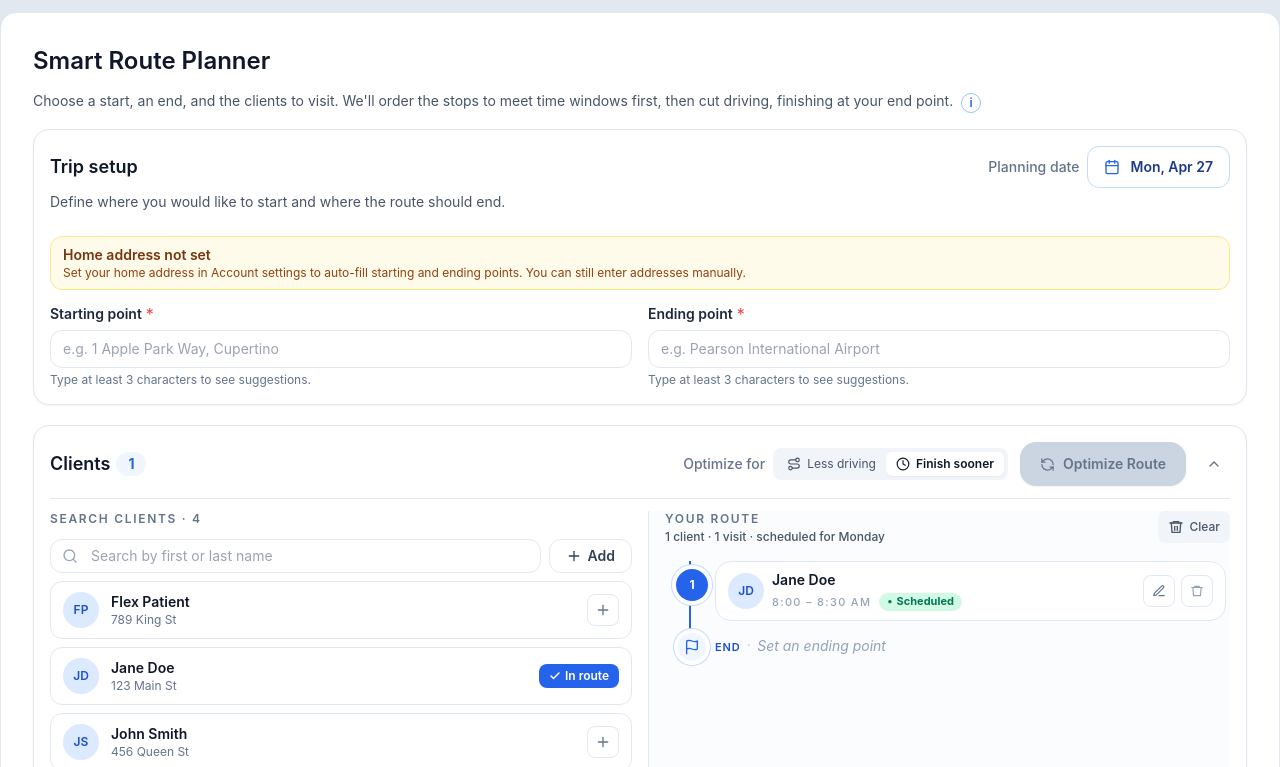
Test case: RoutePlanner patient selection integration › skips an auto-seeded occurrence from the selected clients list
Click the button named "Edit window" at (1159, 591), box [1143,575,1175,607]
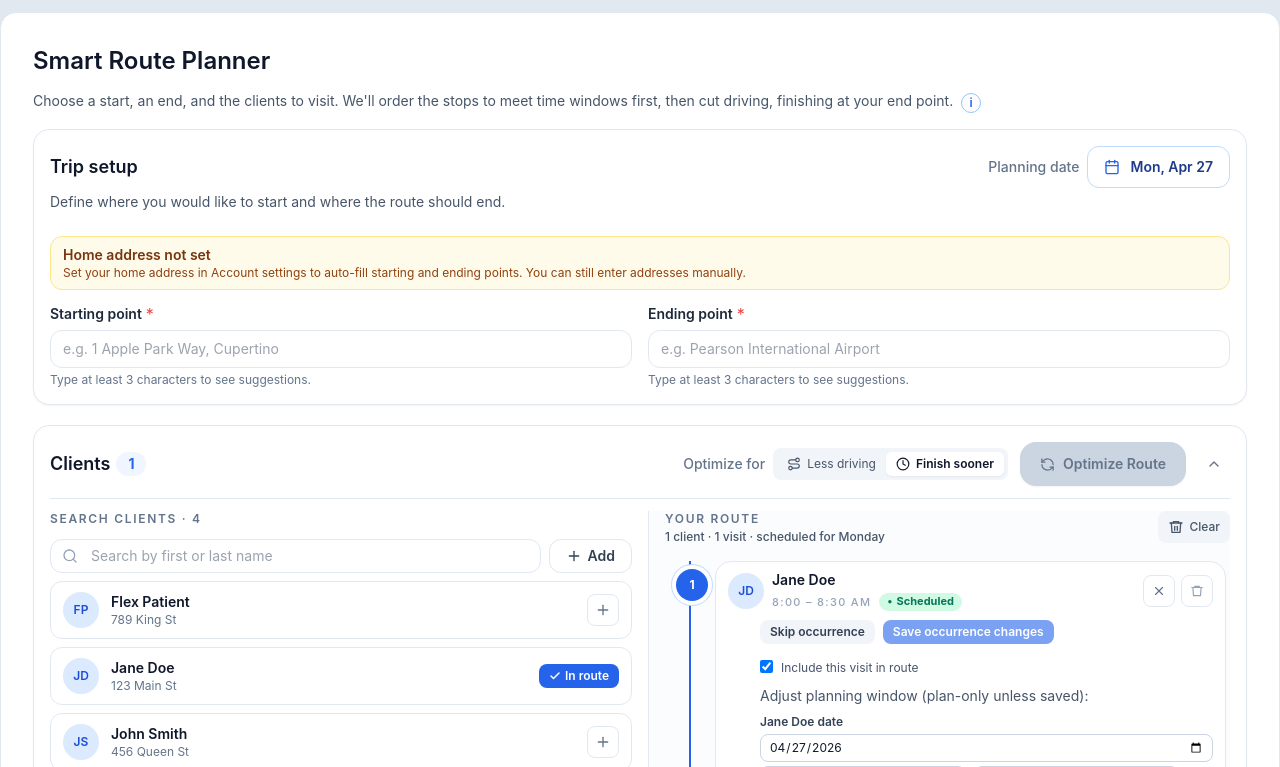
Click the button "Skip occurrence" at (817, 632), box [760,620,875,644]
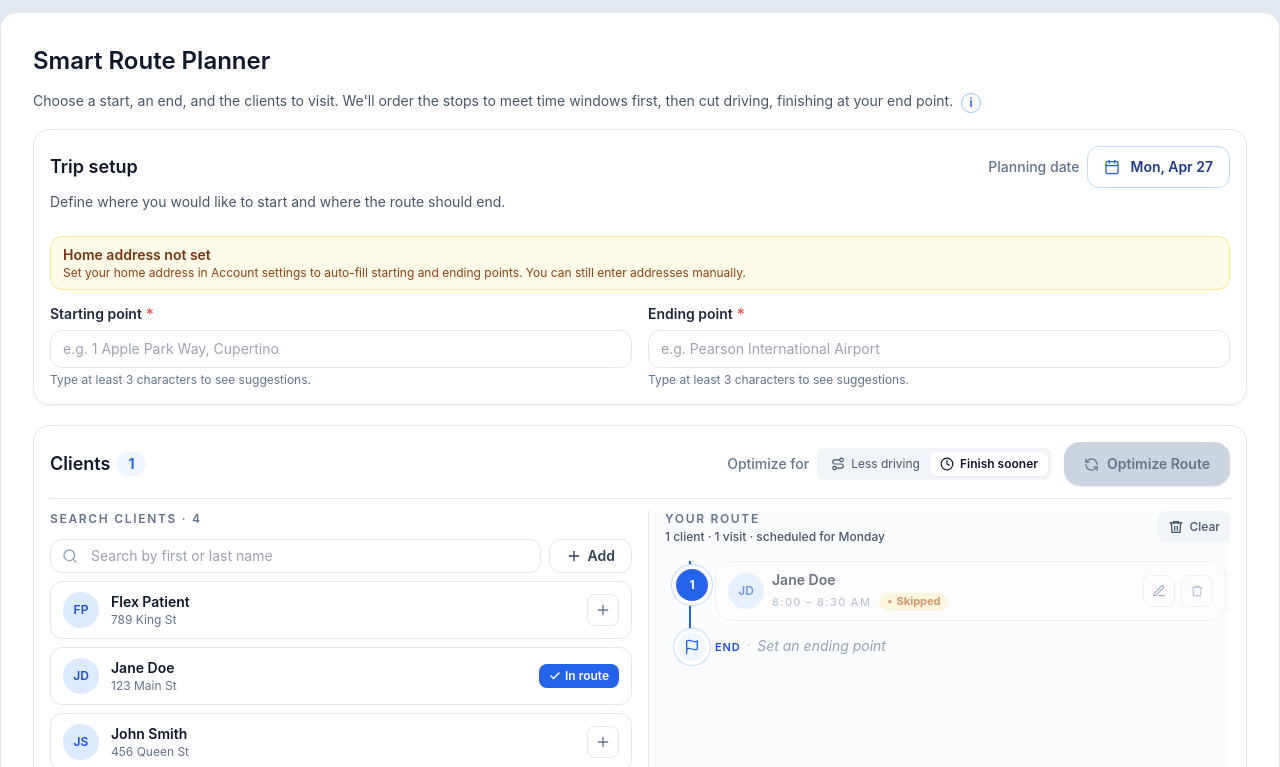
Click the button named "Edit window" at (1159, 591), box [1143,575,1175,607]
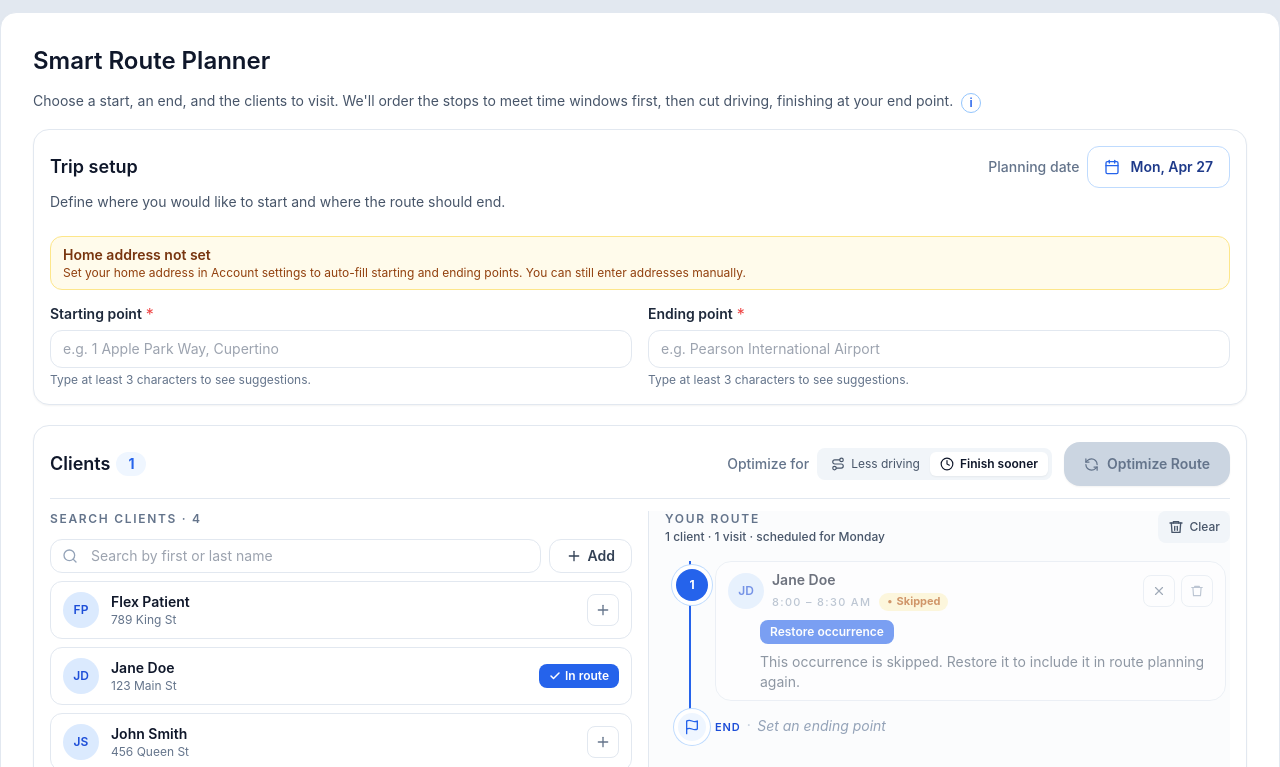
Expected: the button "Restore occurrence" is shown, [760,620,894,644]
